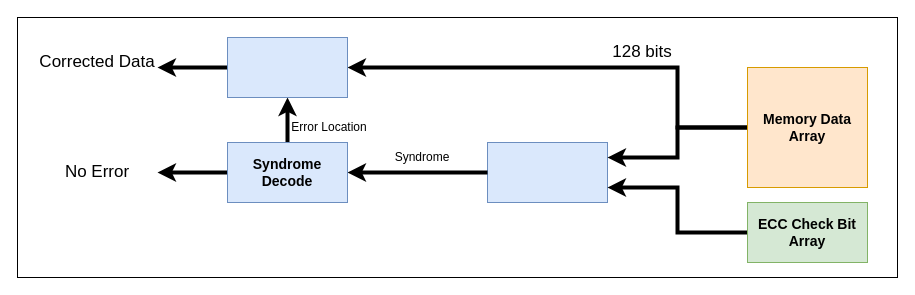
The diagram is 915 pixels wide and 295 high, and some of its shapes have lost their labels. The shapes that lost their labels are listed below. From the top down, each one's box as (x1, y1, x2, y2) in pixels, then its label:
(226, 36, 348, 98): Error Correction
(486, 142, 608, 202): Syndrome Generator
